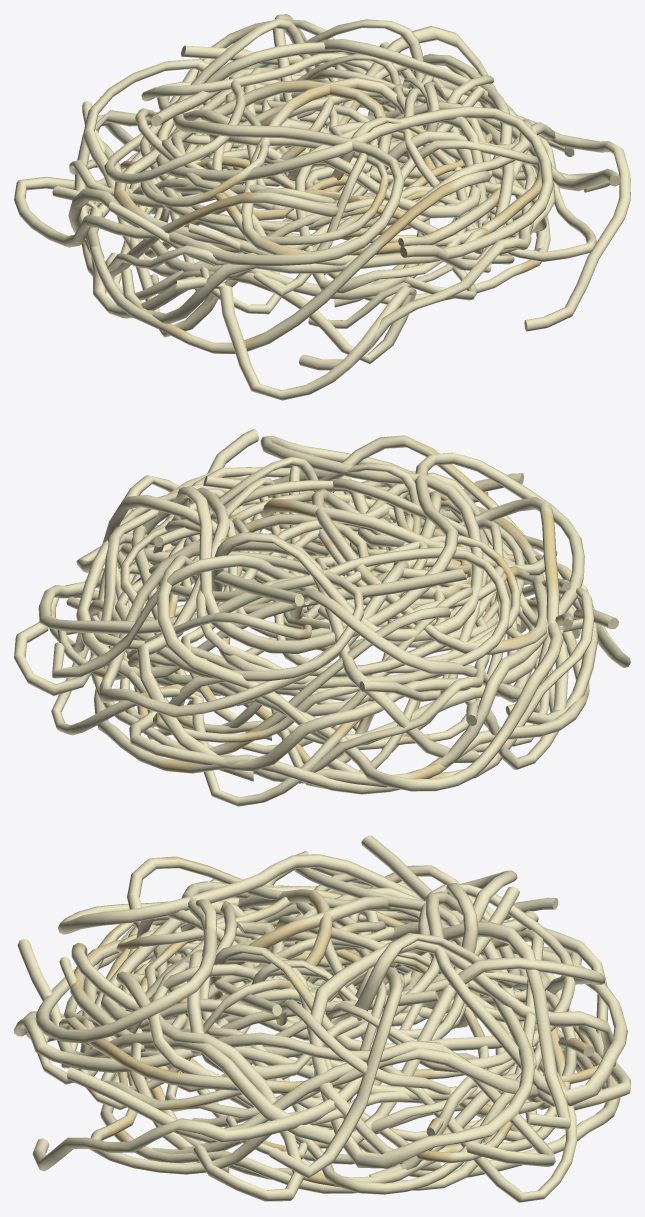
The model's file is Pasta.fbx.
3 views of the same model, one above another, from view 1: azimuth 30°, elevation 25°; view 2: azimuth 150°, elevation 25°; view 3: azimuth 270°, elevation 25° (orthographic). The views are drawn at different scales.
Parts seen in each view (by area): view 1: Pasta; view 2: Pasta; view 3: Pasta.
Part boxes in pixels (<box>): Pasta: <box>14,14,630,400</box>; Pasta: <box>14,429,630,806</box>; Pasta: <box>14,835,630,1202</box>.
Size of the model in its own units: 298 by 126 by 296.
1 material, 1 textured.
